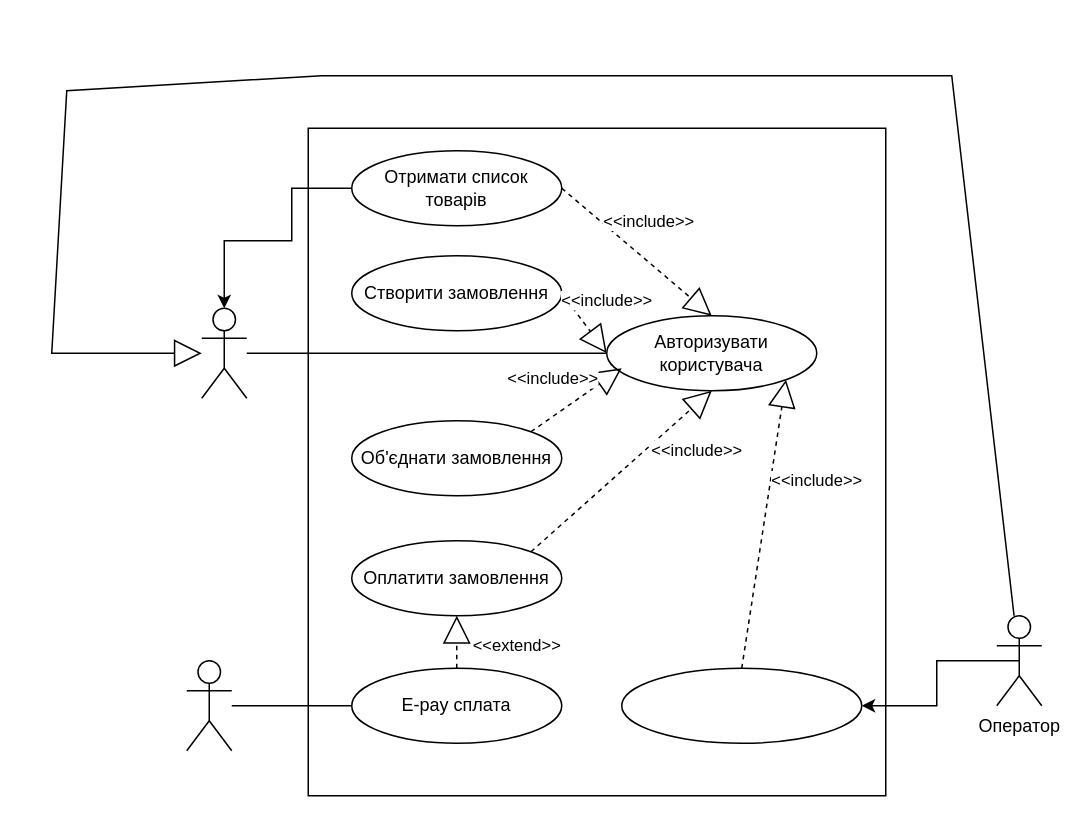
This 1086x831 diagram has some shape labels left out. The box of each missing label's shape, as (x1, y1, x2, y2) in pixels:
Користувач: (200, 307, 247, 398)
Сервіс E-pay: (185, 659, 232, 751)
Сповістити про успішність замовлення: (620, 667, 862, 743)
